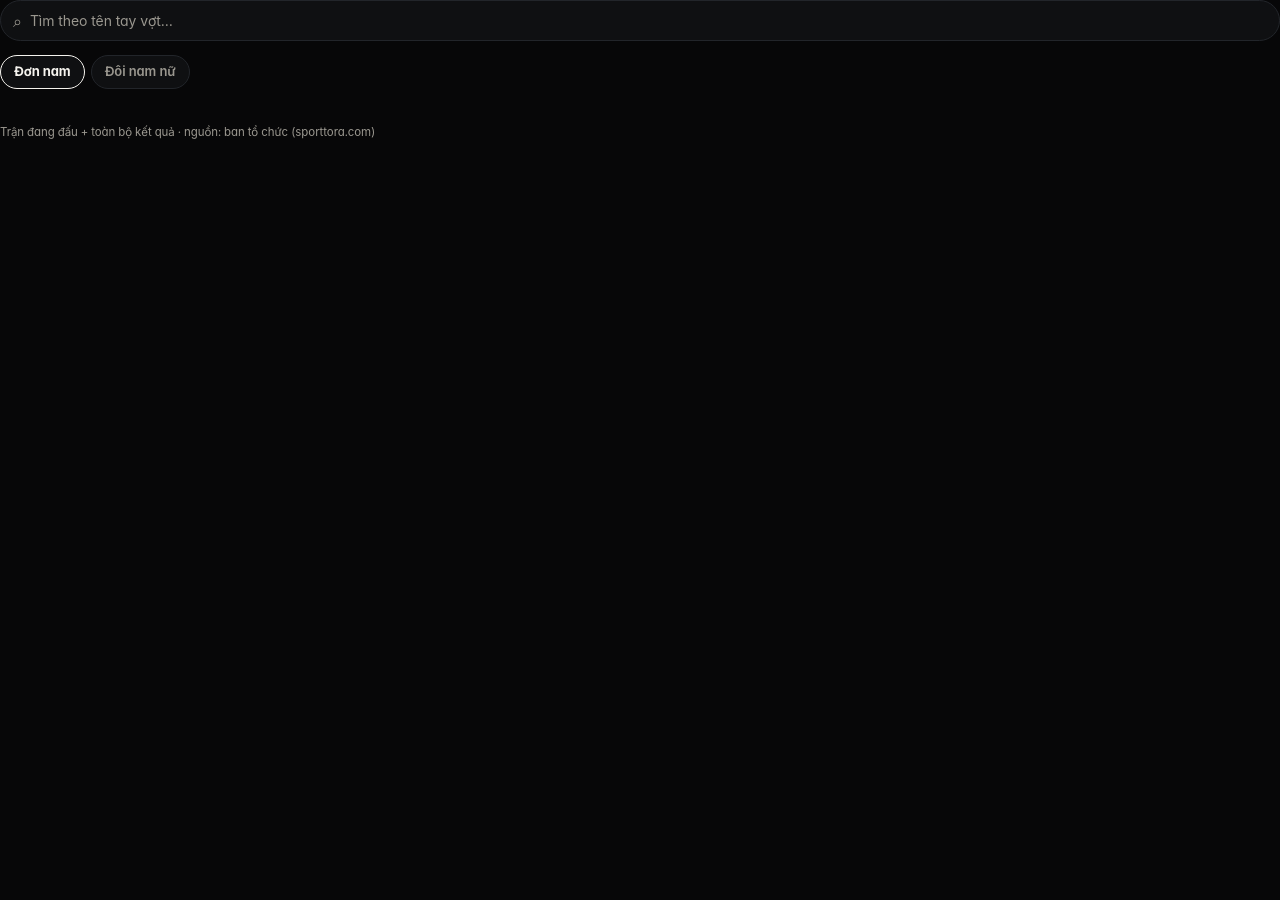
Scenario: WorldCupProContent › searches by player name across all events, diacritic-insensitive
// "hoang" (no diacritics, lowercase) finds "Nguyễn Việt Hoàng", in a different event than the default tab
Type "hoang" into the search field at (648, 20), box [30, 1, 1267, 40]
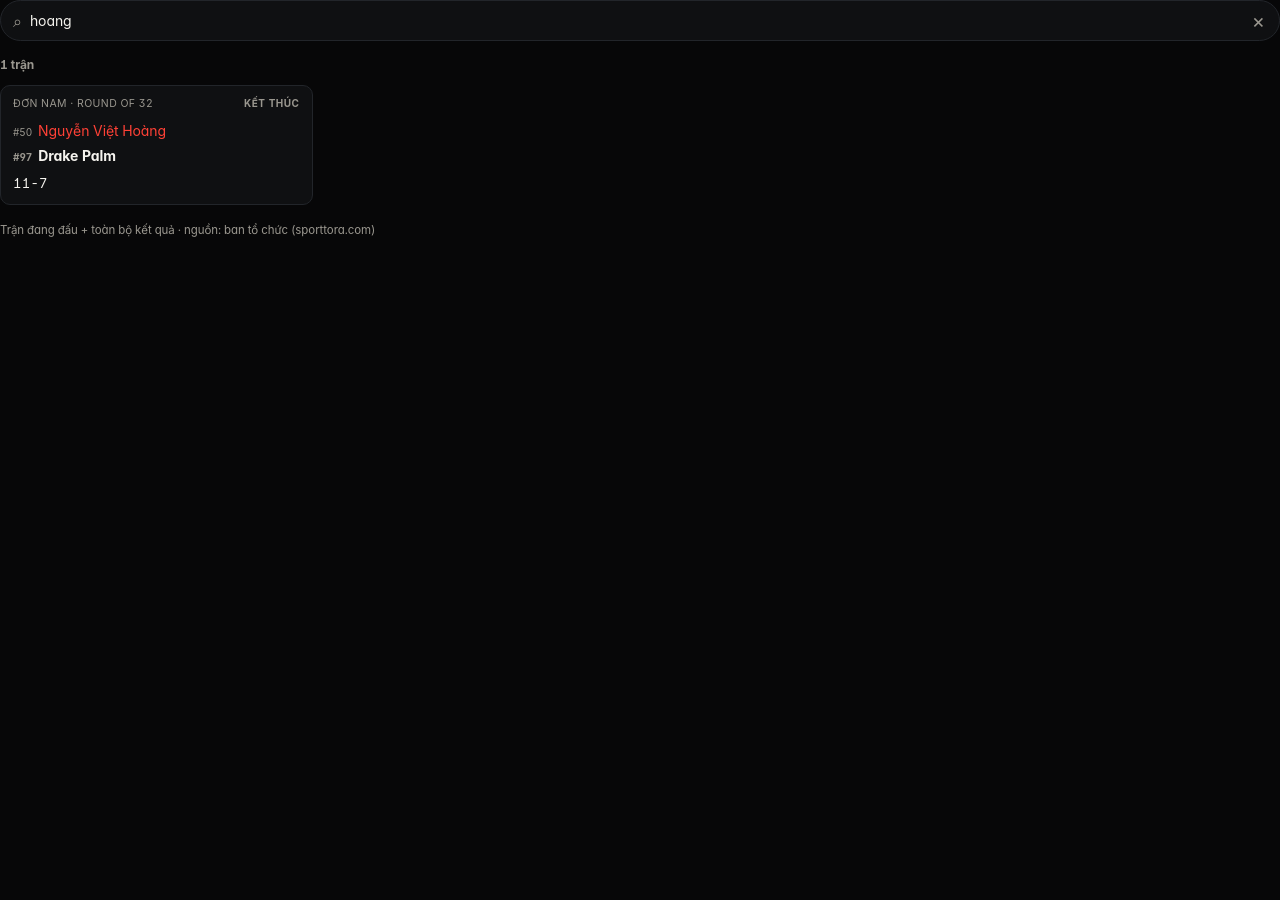
Check: the text "#50 Nguyễn Việt Hoàng" is shown, box [13, 120, 166, 141]
Check: the text "Đơn nam · Round of 32" is shown, box [13, 96, 153, 111]
Check: the tab with class "wcpro-subtab" is gone
